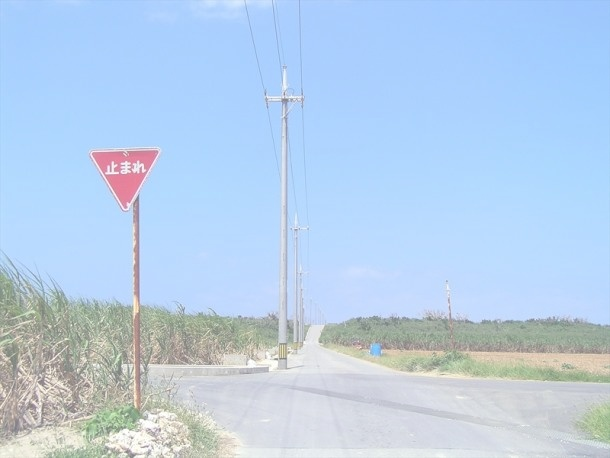Regulatory_sign_triangle: (74, 132, 166, 219)
